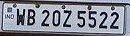character: (109, 11, 119, 29), (51, 9, 60, 27), (62, 9, 71, 27), (76, 10, 85, 28), (87, 10, 96, 28), (16, 8, 25, 25), (26, 8, 35, 25), (40, 9, 49, 26), (98, 11, 107, 28)
